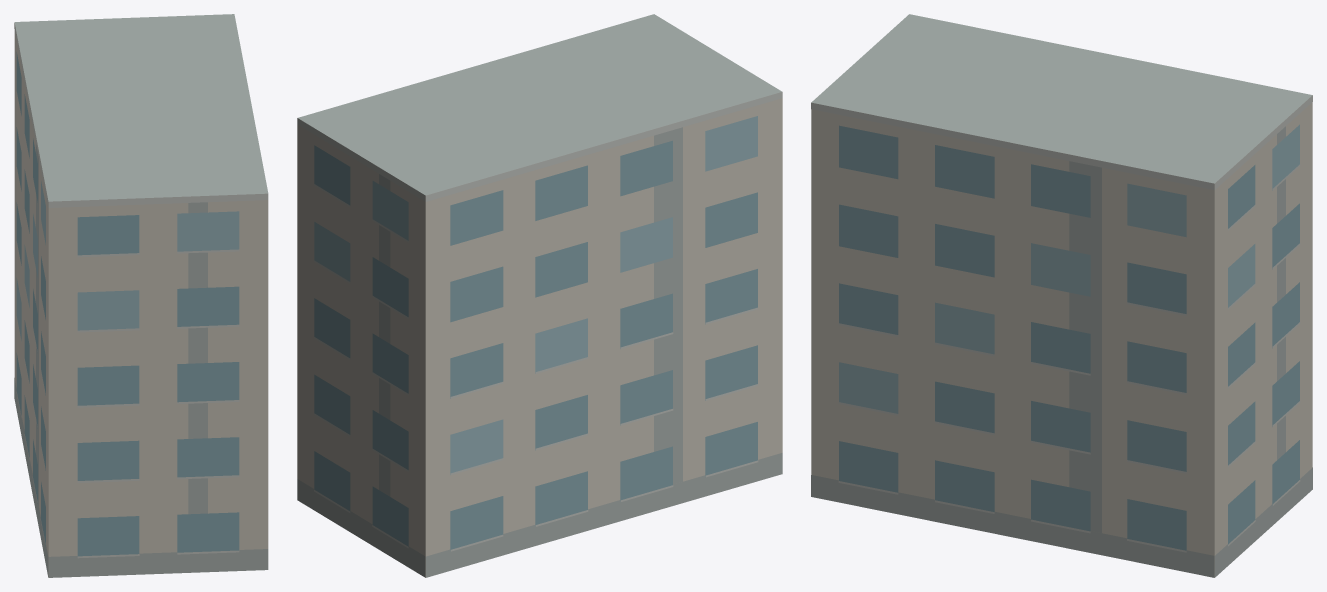
The model's file is survey-upis-32633240.glb.
The picture shows the model from 3 angles, left to right: view 1: azimuth 30°, elevation 25°; view 2: azimuth 150°, elevation 25°; view 3: azimuth 270°, elevation 25°; orthographic projection. The views are drawn at different scales.
Parts seen in each view (by area): view 1: survey-upis-32633240.tmp; view 2: survey-upis-32633240.tmp; view 3: survey-upis-32633240.tmp.
Boxes of the visible parts, x1,y1,x2,y2 form: survey-upis-32633240.tmp: (14, 14, 268, 577); survey-upis-32633240.tmp: (297, 14, 782, 577); survey-upis-32633240.tmp: (811, 14, 1312, 577).
Size of the model in its own units: 13.34 by 14.45 by 16.67.
